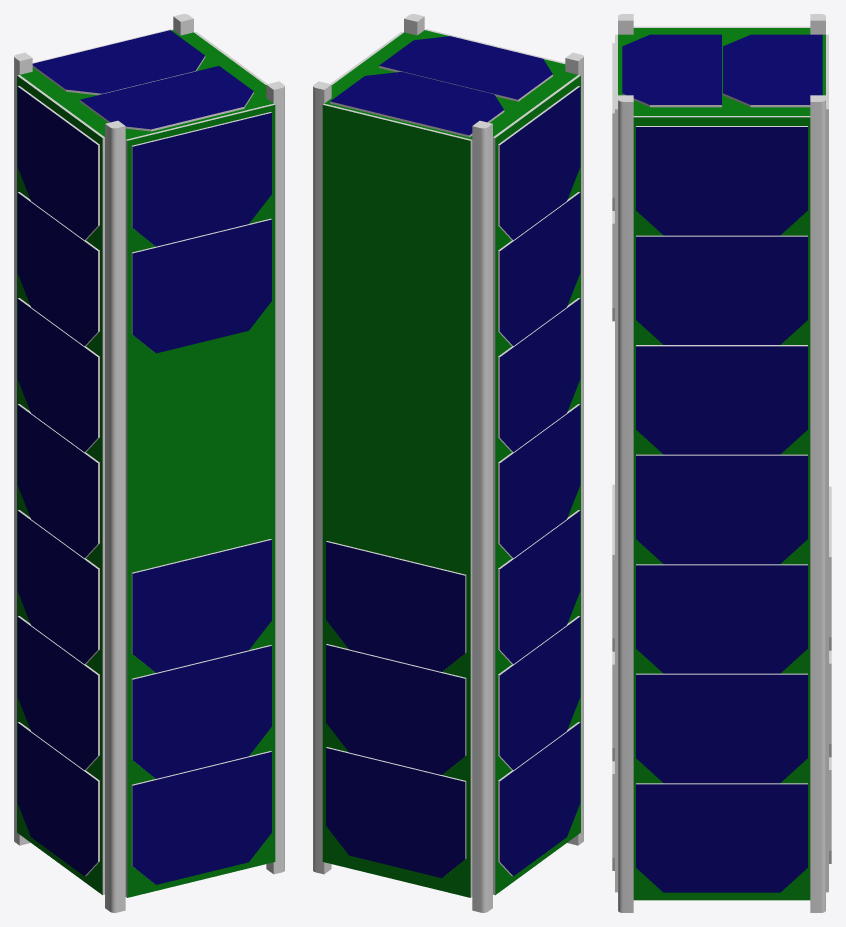
Rendered from 3Uwsonomasolar.gltf.
3 views of the same model, side by side, from view 1: azimuth 30°, elevation 25°; view 2: azimuth 150°, elevation 25°; view 3: azimuth 270°, elevation 25° (orthographic). The views are drawn at different scales.
Visible parts, largest first — view 1: Cube; view 2: Cube; view 3: Cube.
Part boxes in pixels (x1,y1,x2,y2): Cube: [14, 14, 284, 912]; Cube: [313, 14, 583, 912]; Cube: [612, 14, 831, 912].
Size of the model in its own units: 0.1054 by 0.4305 by 0.1054.
